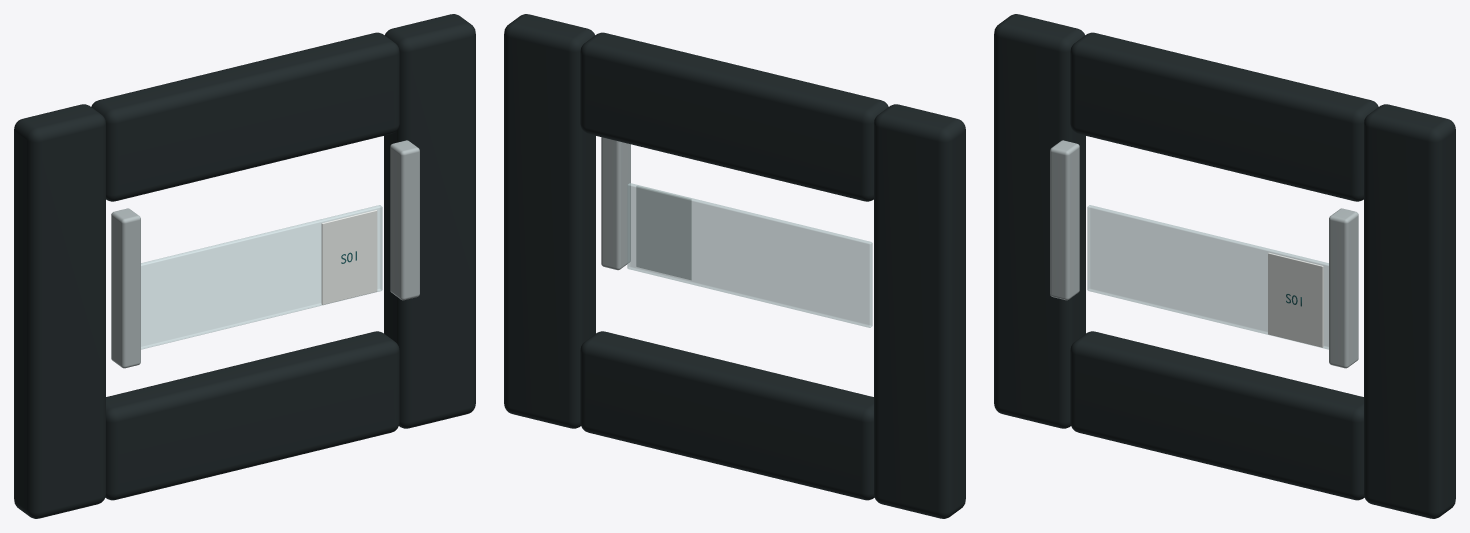
Rendered from slide_y.glb.
3 renders of one model, left to right at view 1: azimuth 30°, elevation 25°; view 2: azimuth 150°, elevation 25°; view 3: azimuth 330°, elevation 25°, orthographic.
Parts seen in each view (by area): view 1: slide_side_rail, slide_end_rail.001, slide_end_rail, slide_side_rail.001, specimen_slide, slide_label, slide_clip.001, slide_clip; view 2: slide_side_rail, slide_side_rail.001, slide_end_rail.001, slide_end_rail, specimen_slide, slide_label, slide_clip.001; view 3: slide_side_rail.001, slide_end_rail.001, slide_end_rail, slide_side_rail, specimen_slide, slide_clip, slide_clip.001, slide_label.
Boxes of the visible parts, x1,y1,x2,y2 form: slide_side_rail: (14,104,105,518); slide_end_rail.001: (91,32,399,201); slide_end_rail: (105,331,399,500); slide_side_rail.001: (384,14,475,428); specimen_slide: (141,205,382,349); slide_label: (321,210,377,304); slide_clip.001: (390,140,419,300); slide_clip: (111,208,140,368); slide_side_rail: (874,104,965,518); slide_side_rail.001: (504,14,595,428); slide_end_rail.001: (580,32,888,201); slide_end_rail: (580,331,874,500); specimen_slide: (627,183,872,327); slide_label: (636,185,691,279); slide_clip.001: (601,137,630,270); slide_side_rail.001: (1364,104,1455,518); slide_end_rail.001: (1070,32,1378,201); slide_end_rail: (1070,331,1364,500); slide_side_rail: (994,14,1085,428); specimen_slide: (1087,205,1328,349); slide_clip: (1050,140,1079,300); slide_clip.001: (1329,208,1358,368); slide_label: (1268,252,1323,347).
Size of the model in its own units: 0.138 by 0.115 by 0.0205.
